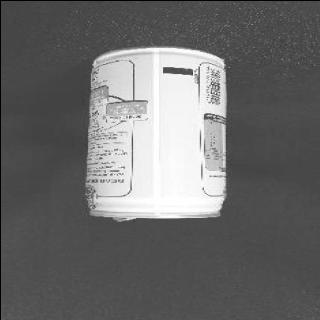alumunium_can: (84, 44, 226, 220)
